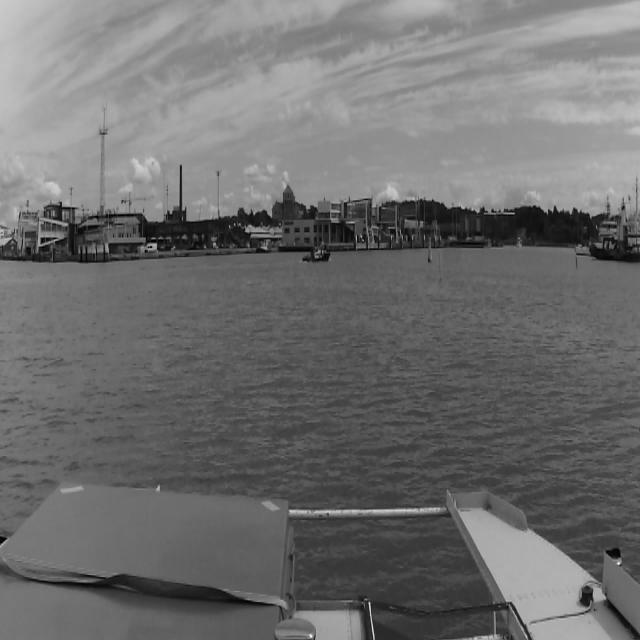buoy: (438, 250, 442, 282), (428, 236, 432, 262), (574, 247, 578, 270)
ship: (582, 204, 640, 264), (302, 241, 330, 263), (254, 243, 270, 253), (516, 236, 522, 249)
